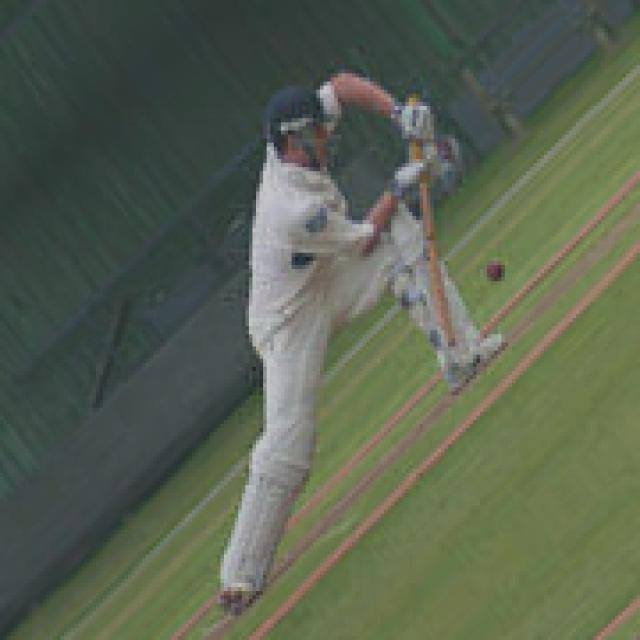toe: (431, 294, 464, 345)
